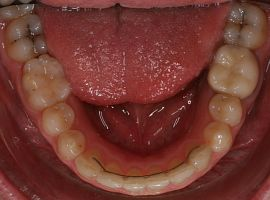LL1BC_healthy: (202, 123, 232, 153)
LL1M_healthy: (208, 45, 260, 99)
LL2BC_healthy: (207, 94, 244, 128)
LL2M_decay: (222, 3, 270, 47)
LLCI_decay: (147, 167, 170, 192)
LLC_decay: (186, 145, 212, 172)
LLLI_decay: (169, 161, 196, 185)
LR1BC_healthy: (55, 129, 87, 161)
LR1M_decay: (20, 54, 71, 110)
LR2BC_healthy: (40, 102, 75, 136)
LR2M_decay: (2, 13, 46, 62)
LR3M_decay: (1, 1, 34, 19)
LRCI_decay: (123, 166, 146, 193)
LRC_decay: (74, 151, 106, 180)
LRLI_decay: (96, 163, 124, 189)
